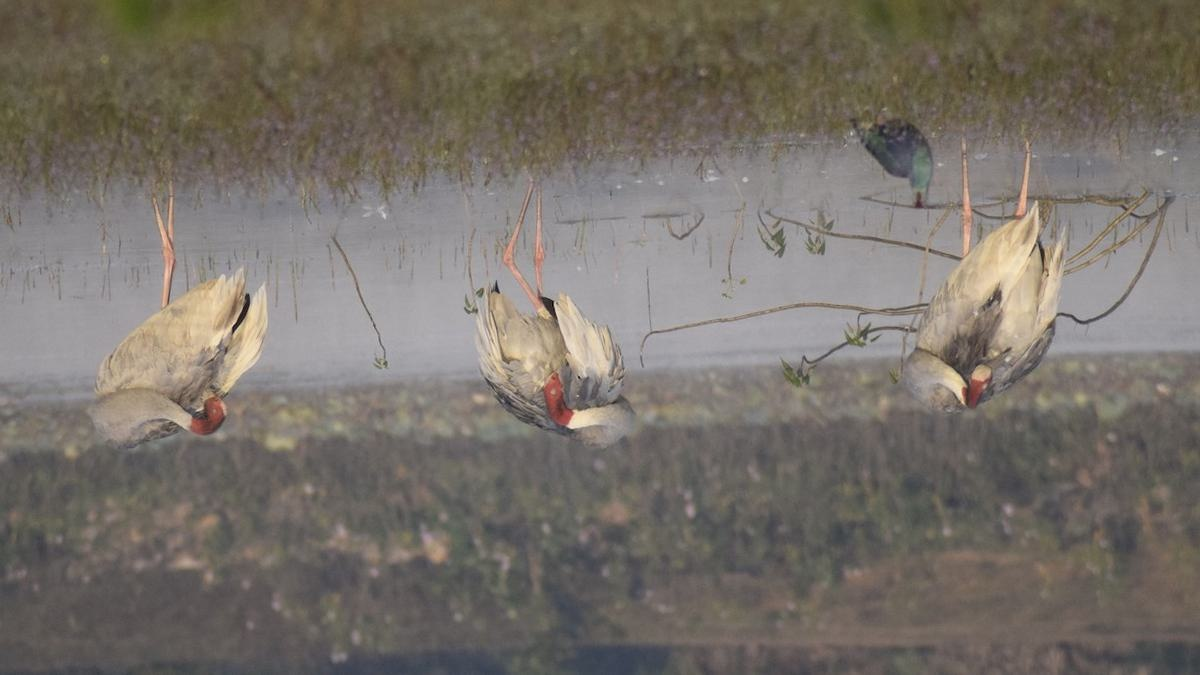crane: (446, 168, 654, 465), (899, 123, 1090, 409), (77, 179, 267, 441)
